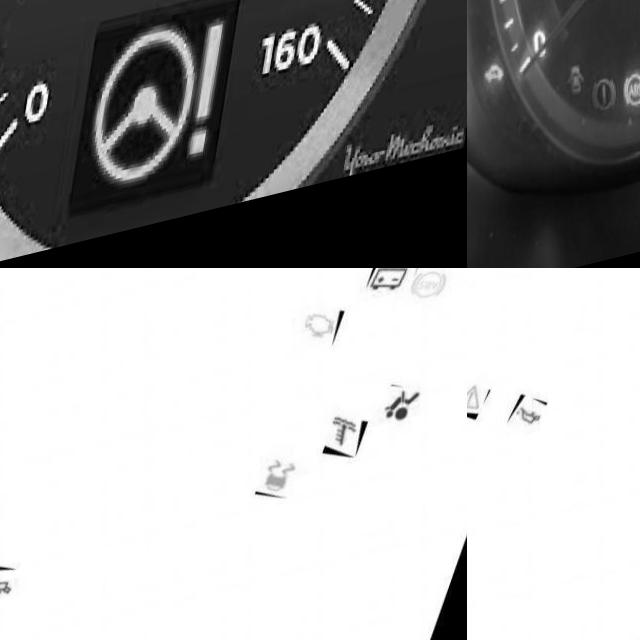Electronic Power Steering: (92, 26, 225, 201)
